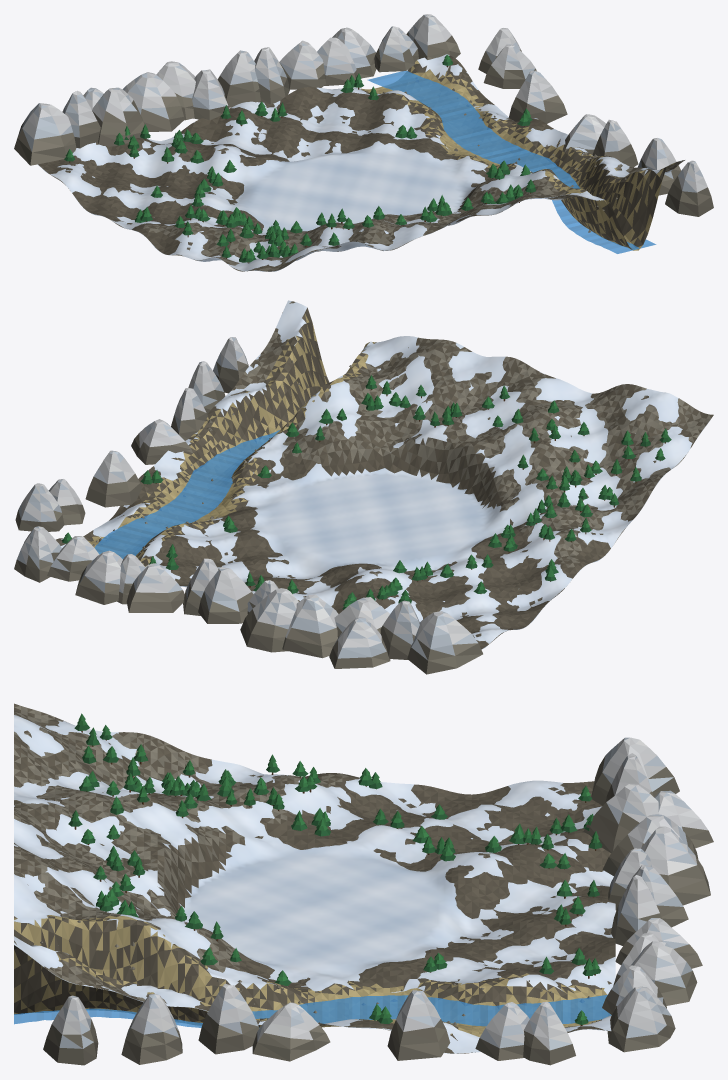
Rendered from river_landscape.glb.
The picture shows the model from 3 angles, top to bottom: view 1: azimuth 30°, elevation 25°; view 2: azimuth 150°, elevation 25°; view 3: azimuth 270°, elevation 25°; orthographic projection. The views are drawn at different scales.
Parts seen in each view (by area): view 1: RiverLandscape; view 2: RiverLandscape; view 3: RiverLandscape.
Boxes of the visible parts, x1,y1,x2,y2 form: RiverLandscape: [14, 14, 713, 271]; RiverLandscape: [14, 300, 713, 674]; RiverLandscape: [14, 703, 713, 1065].
Size of the model in its own units: 91.37 by 16.33 by 93.07.
